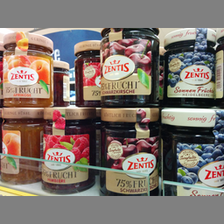jam: (160, 107, 224, 195), (100, 107, 160, 196), (40, 106, 96, 194), (100, 28, 160, 107), (161, 28, 220, 108), (1, 32, 54, 106), (1, 107, 42, 185), (74, 39, 101, 106)
